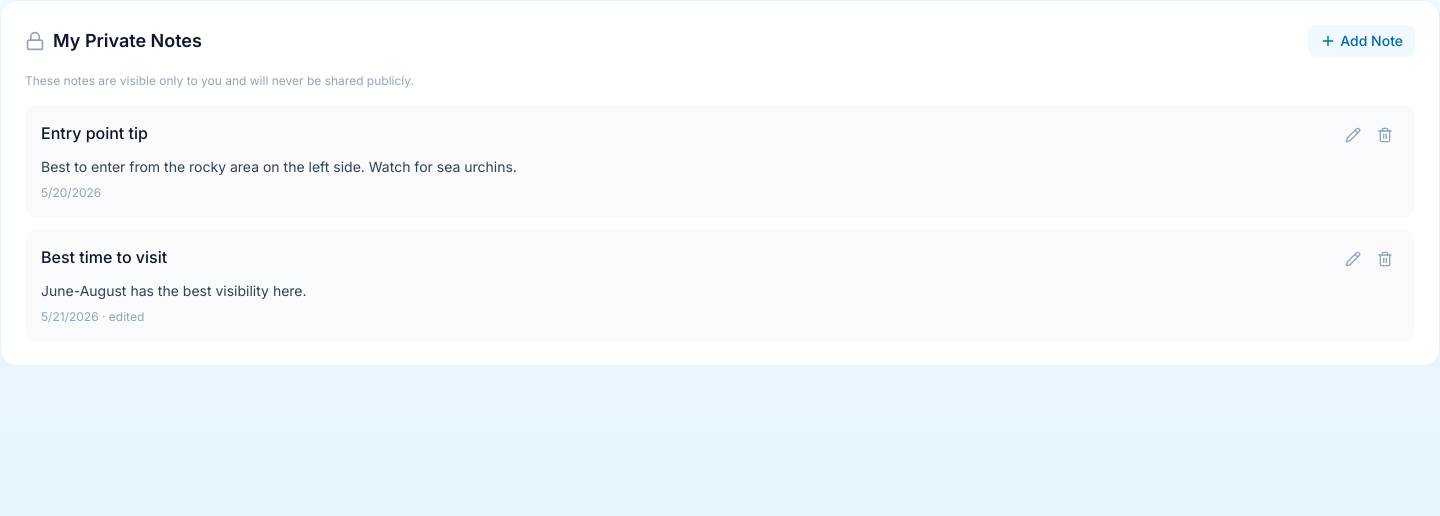
Test: PrivateNotesSection › opens edit form when edit button is clicked
Expected: the heading "Entry point tip" is shown, [41, 121, 148, 145]
What coordinates should you click on to do the following:
click the button titled "Edit" in the row of "Entry point tip"
I would click on:
 (1353, 135)
Its box is [1339, 121, 1367, 149].
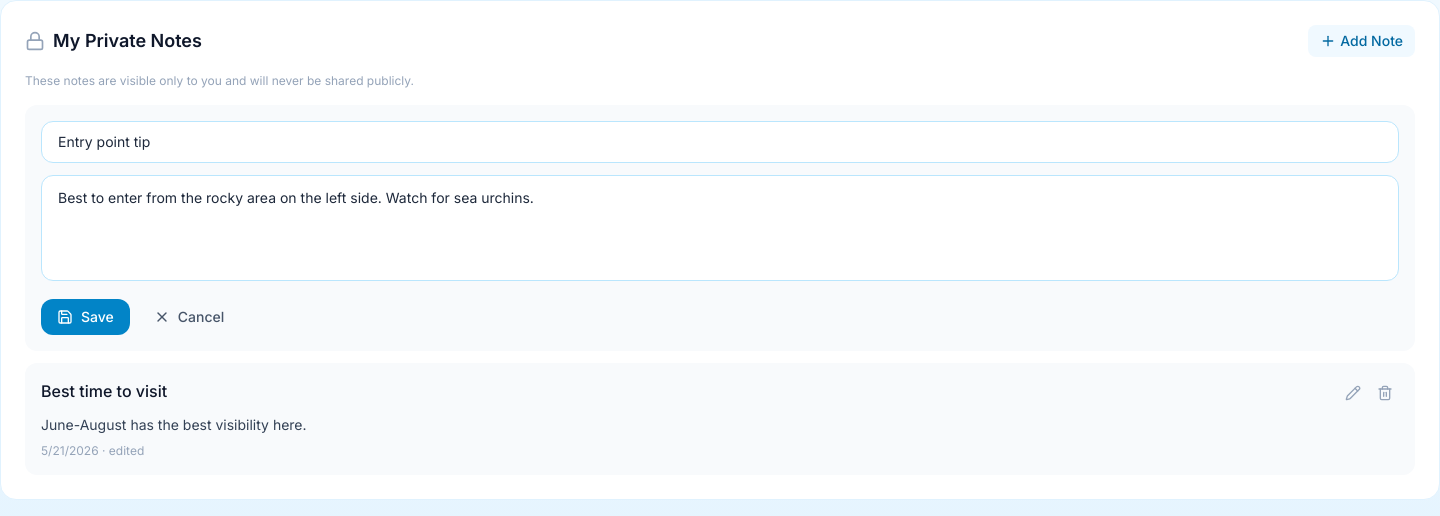
Expected: the field showing "Entry point tip" is shown, [41, 121, 1399, 163]
